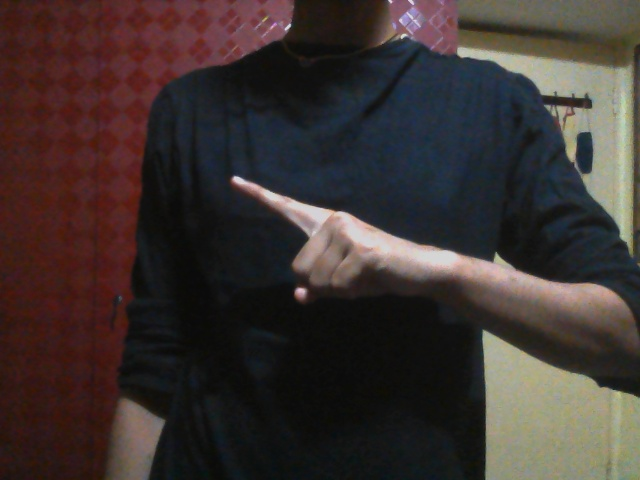I: (224, 172, 405, 327)
